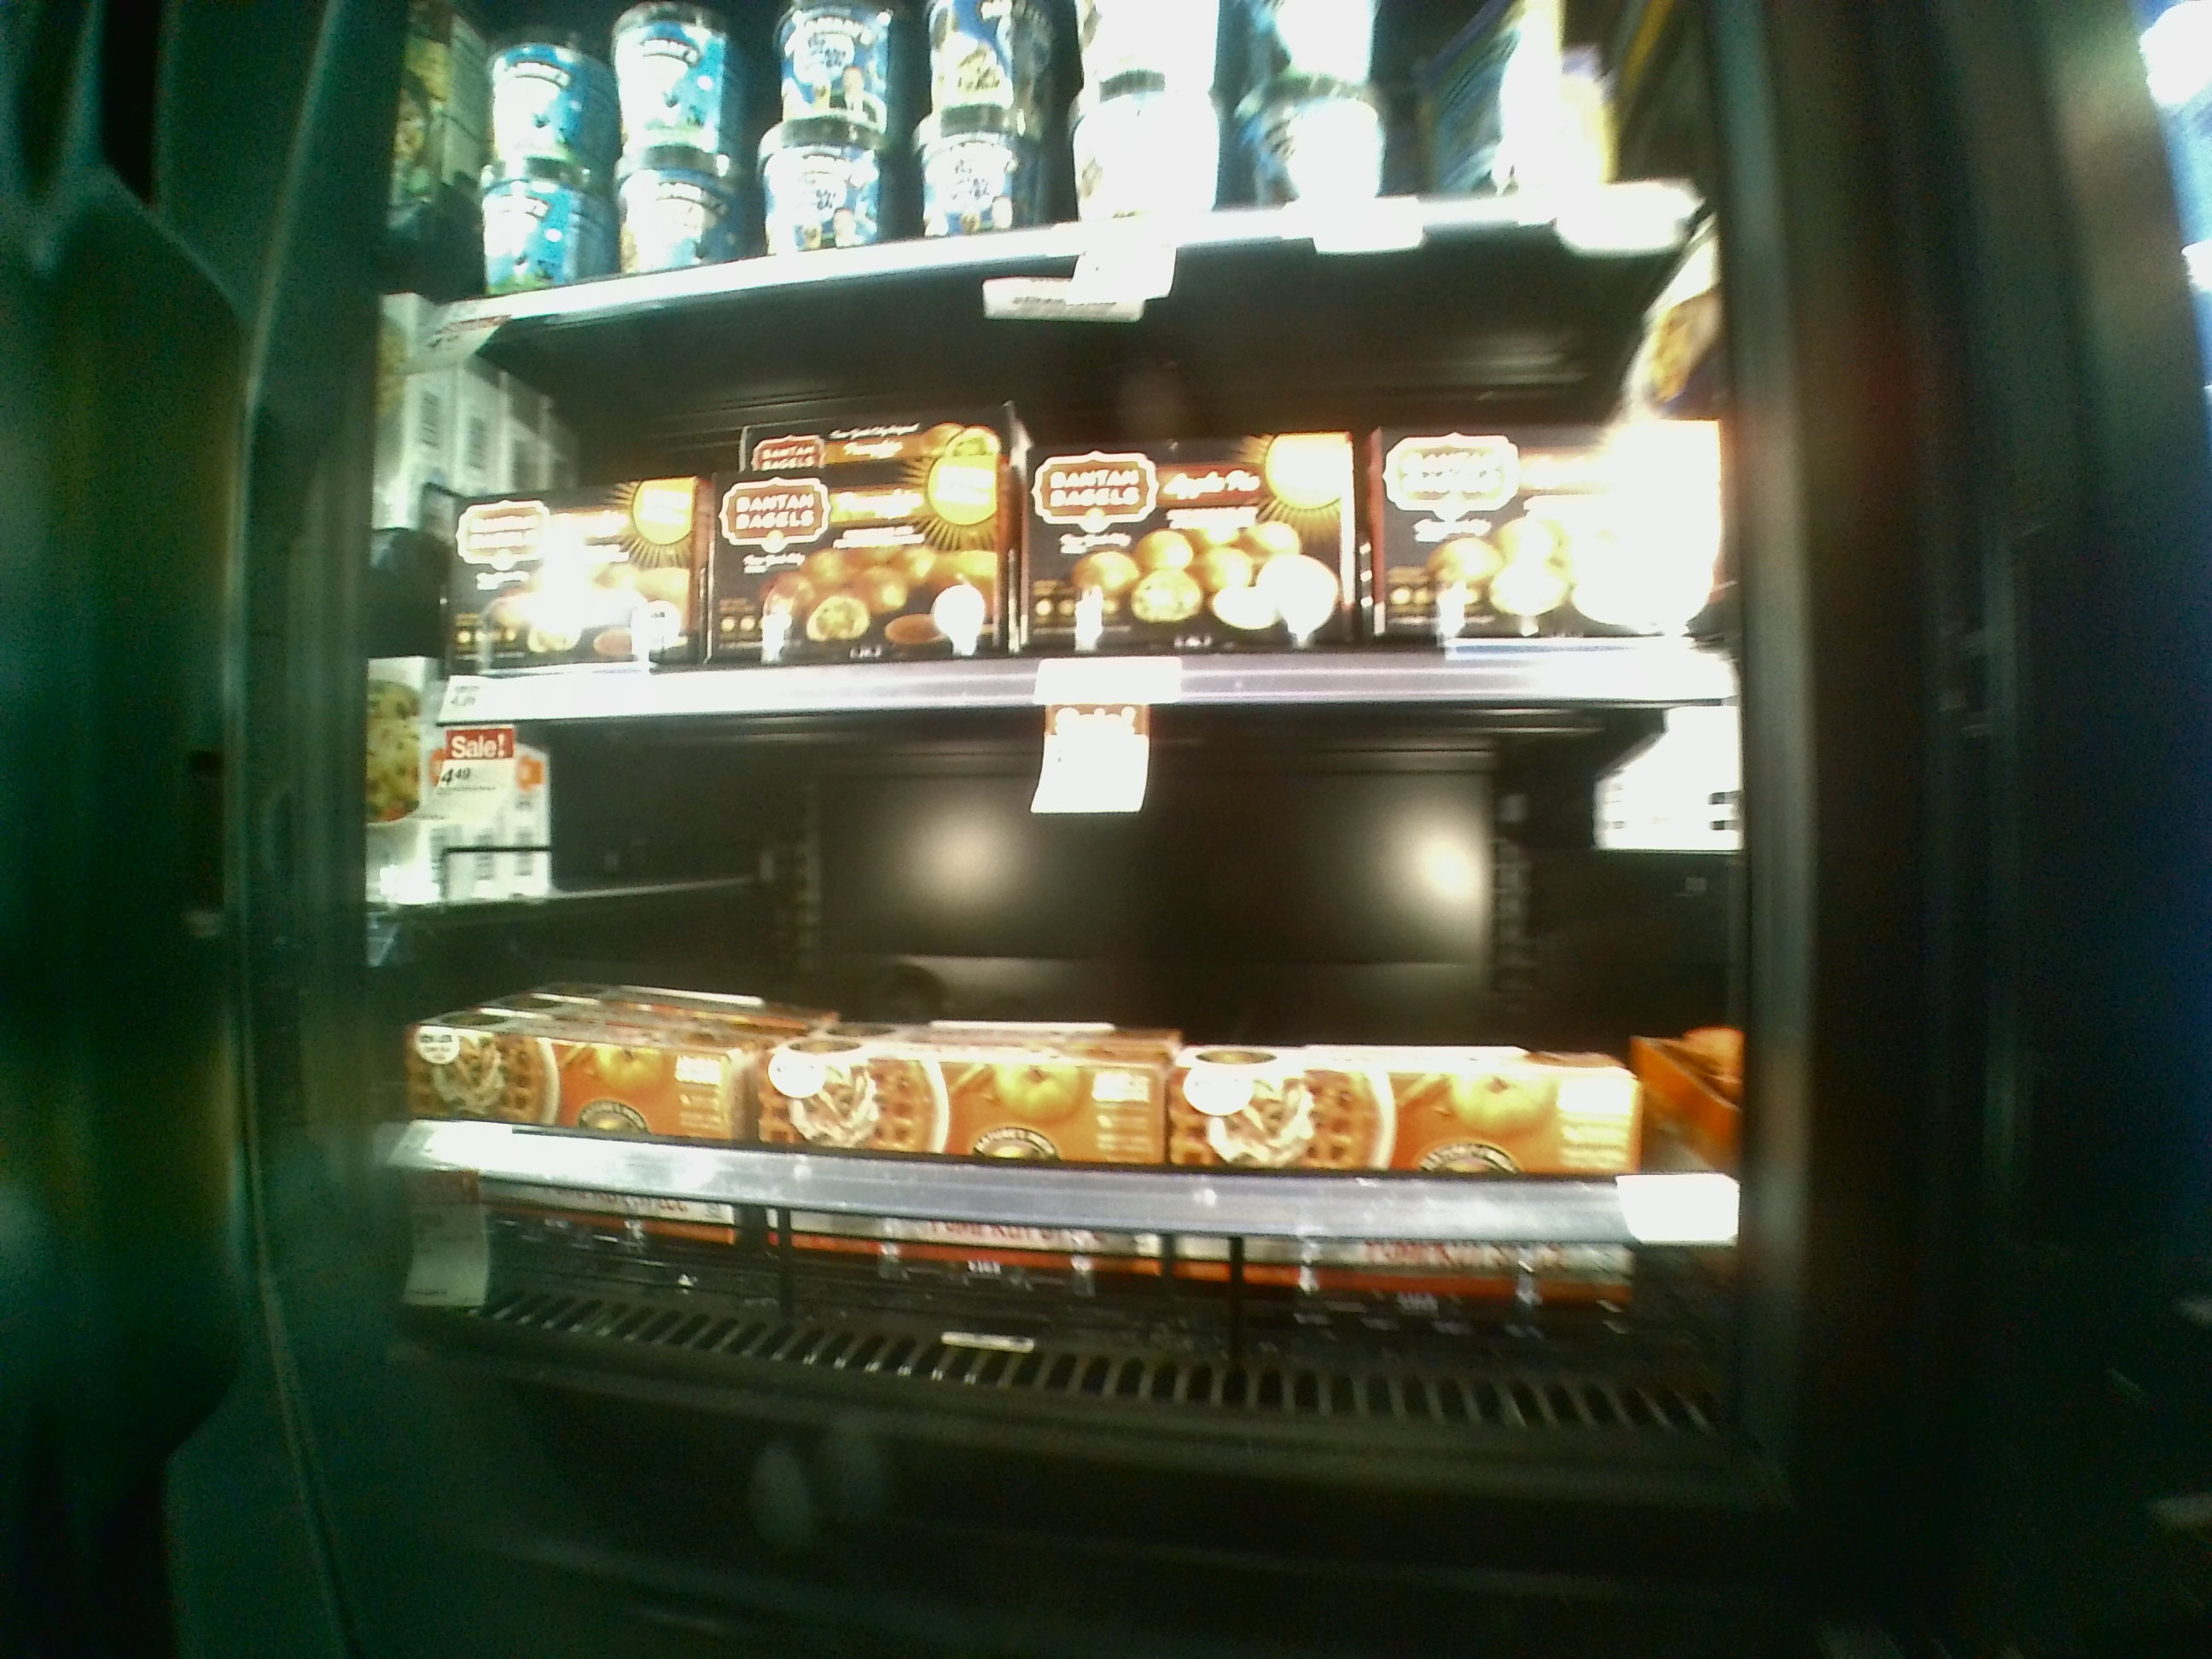shelf: (350, 690, 1770, 1464), (392, 305, 1752, 713)
